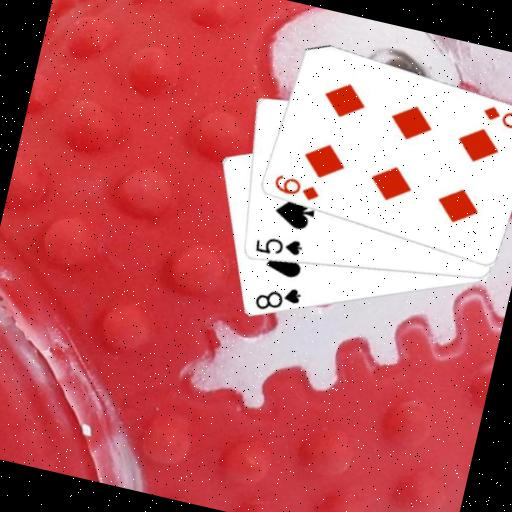5S: (251, 228, 306, 263)
6D: (269, 170, 323, 204), (477, 101, 512, 135)
8S: (250, 278, 305, 321)
